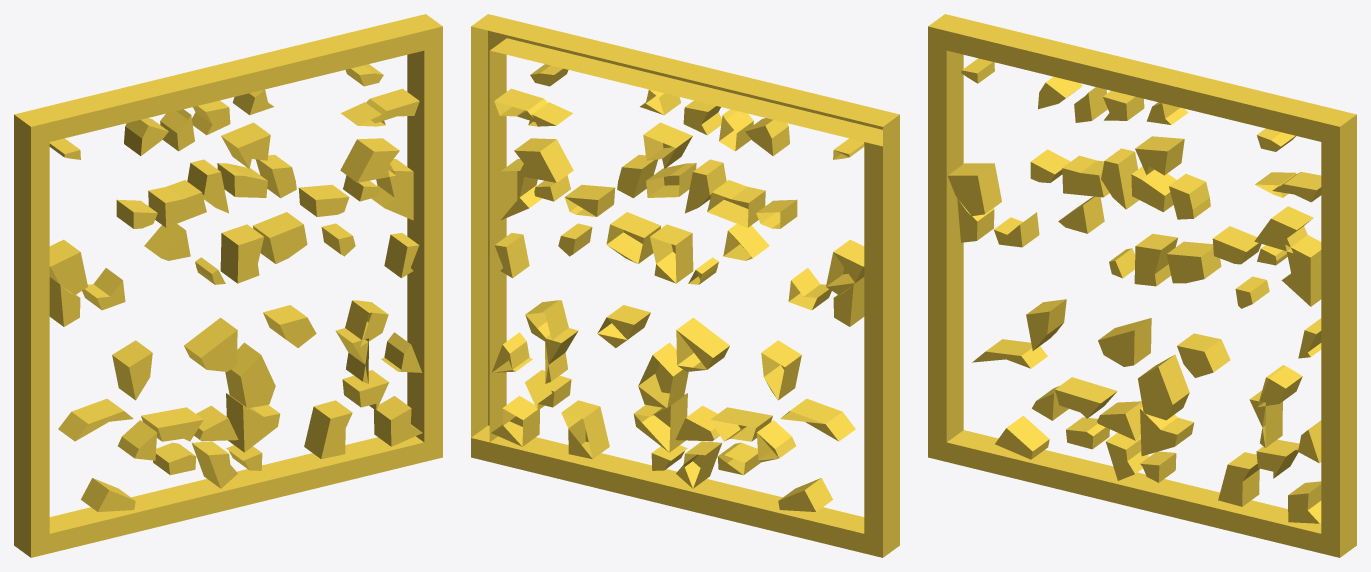
Rendered from RandomPolygons_planar_env.dae.
The picture shows the model from 3 angles, left to right: view 1: azimuth 30°, elevation 25°; view 2: azimuth 150°, elevation 25°; view 3: azimuth 330°, elevation 25°; orthographic projection.
Parts seen in each view (by area): view 1: instance_0 (×39); view 2: instance_0 (×39); view 3: instance_0 (×40).
Boxes of the visible parts, x1=… form: instance_0 (×39): x1=14, y1=14, x2=442, y2=557; instance_0 (×39): x1=471, y1=14, x2=899, y2=557; instance_0 (×40): x1=928, y1=14, x2=1356, y2=557.
Size of the model in its own units: 110 by 7.87 by 110.
